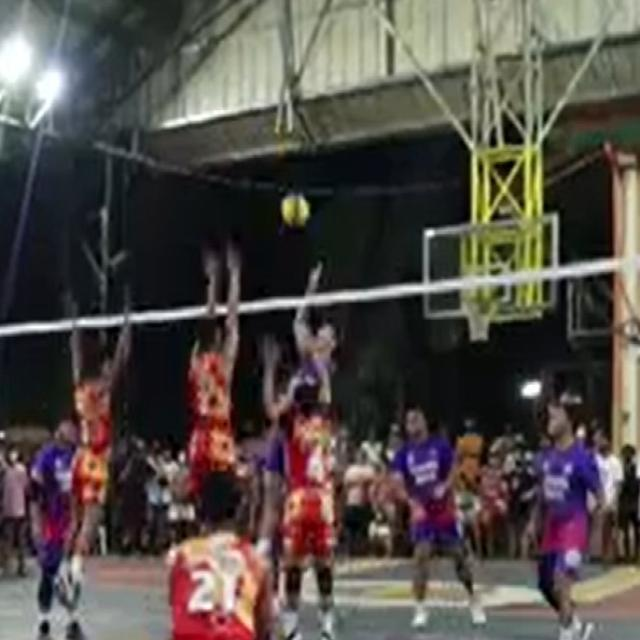volleyball: (280, 195, 310, 227)
